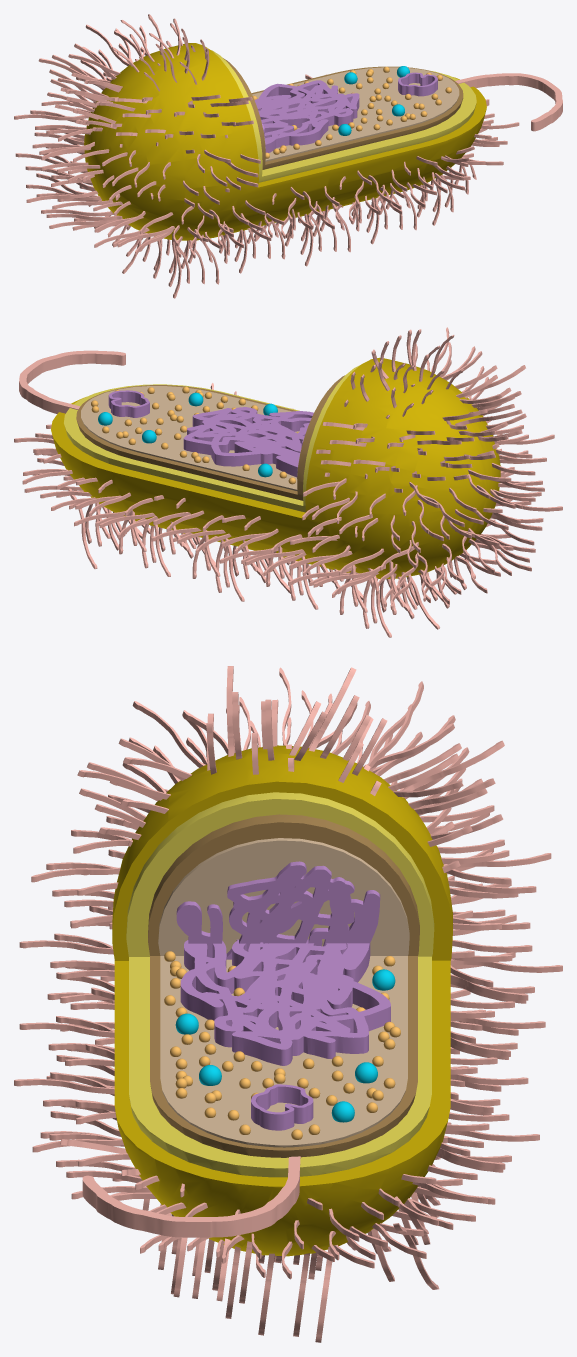
Rendered from BacteriaCell.glb.
3 renders of one model, top to bottom at view 1: azimuth 30°, elevation 25°; view 2: azimuth 150°, elevation 25°; view 3: azimuth 270°, elevation 25°, orthographic. The views are drawn at different scales.
Visible parts, largest first — view 1: Object_2, Object_4, Object_5, Object_10, Object_3, Object_7, Object_9, Object_6, Object_8; view 2: Object_2, Object_4, Object_5, Object_10, Object_3, Object_7, Object_9, Object_6, Object_8; view 3: Object_5, Object_2, Object_10, Object_3, Object_4, Object_7, Object_9, Object_6, Object_8.
Boxes of the visible parts, box(x1,y1,x2,y2) form: Object_2: box(84, 43, 486, 240); Object_4: box(14, 14, 562, 298); Object_5: box(15, 24, 489, 273); Object_10: box(254, 72, 437, 152); Object_3: box(252, 67, 459, 161); Object_7: box(211, 50, 476, 182); Object_9: box(223, 58, 463, 169); Object_6: box(253, 66, 451, 158); Object_8: box(338, 66, 409, 135); Object_2: box(51, 357, 500, 578); Object_4: box(14, 329, 562, 637); Object_5: box(22, 327, 525, 629); Object_10: box(108, 390, 313, 477); Object_3: box(81, 386, 299, 490); Object_7: box(64, 365, 360, 512); Object_9: box(76, 375, 344, 500); Object_6: box(91, 386, 298, 484); Object_8: box(98, 392, 277, 477); Object_5: box(14, 666, 562, 1336); Object_2: box(112, 745, 452, 1256); Object_10: box(176, 861, 390, 1130); Object_3: box(158, 838, 409, 1147); Object_4: box(40, 667, 518, 1342); Object_7: box(126, 792, 434, 1177); Object_9: box(148, 814, 419, 1157); Object_6: box(164, 951, 400, 1139); Object_8: box(175, 969, 395, 1122).
Bounding box in the file's own units: 170 × 83.98 × 95.
